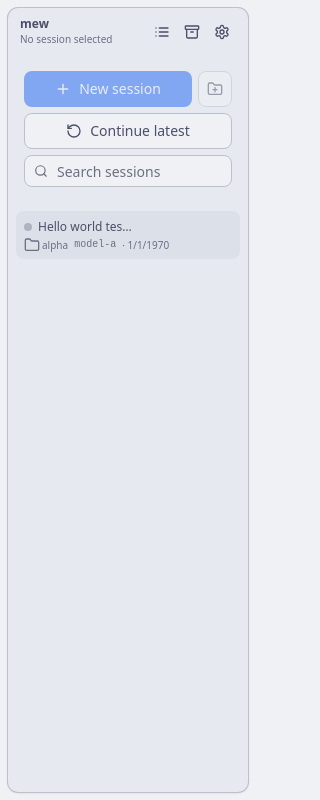
Test: SessionRail workspace collapse › clicking a folder header toggles session visibility
The image size is (320, 800).
Click the button named "Session view: Timeline".
click(162, 32)  # box [148,18,176,46]
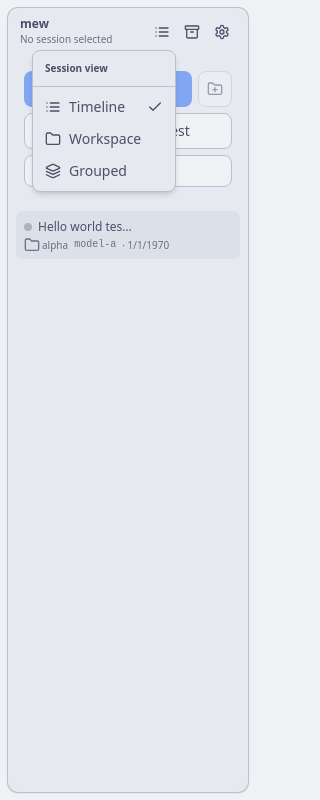
Click the menu item "Workspace".
click(93, 138)  # box [45,129,141,148]
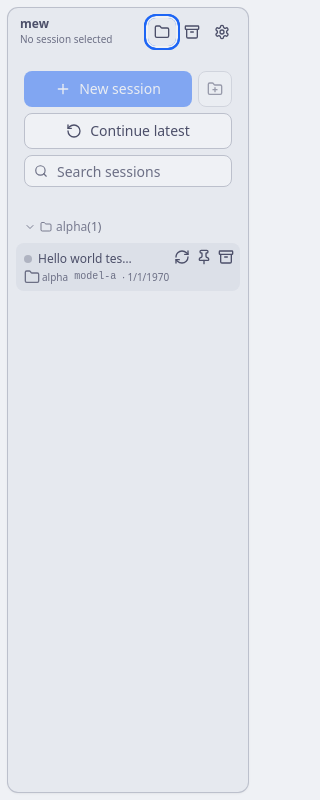
Expected: the text "Hello world test message" is shown, [38,251,136,267]
Now the button titled "/projects/alpha" is shown
Click the button titled "/projects/alpha".
click(38, 227)  # box [24,221,52,233]
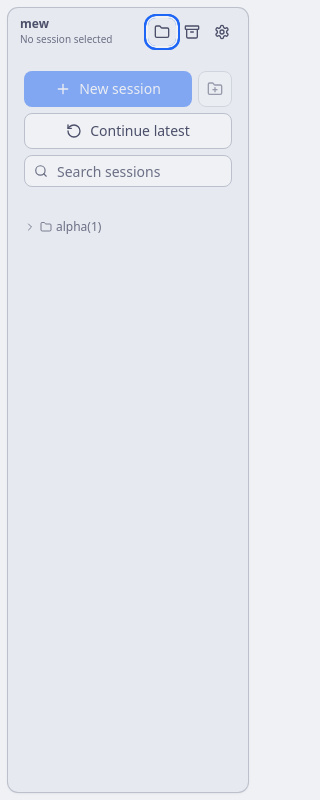
Click the button titled "/projects/alpha".
click(38, 227)  # box [24,221,52,233]
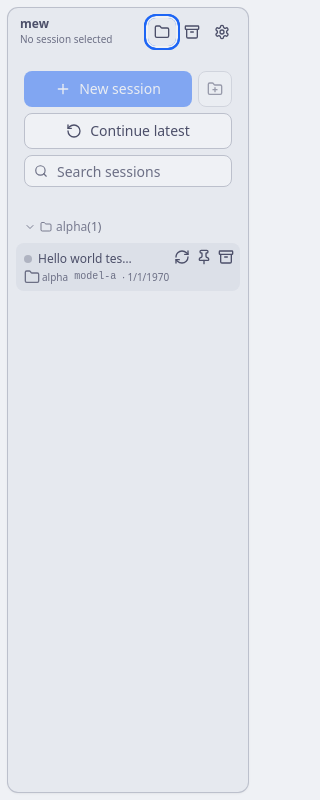
Now the element showing "Hello world test message alpha model-a · 1/1/1970" is shown, box [16,243,240,291]
